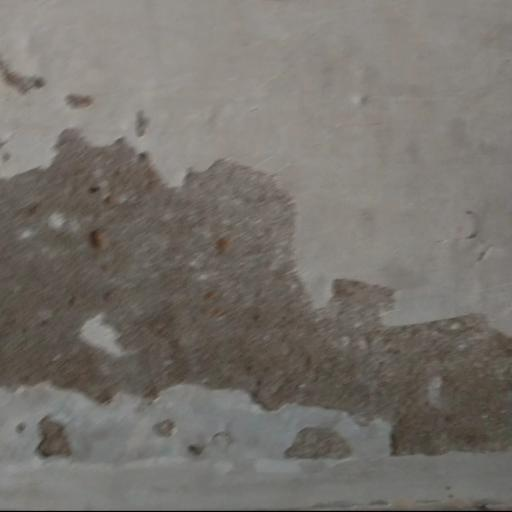peeling: (0, 100, 512, 475)
